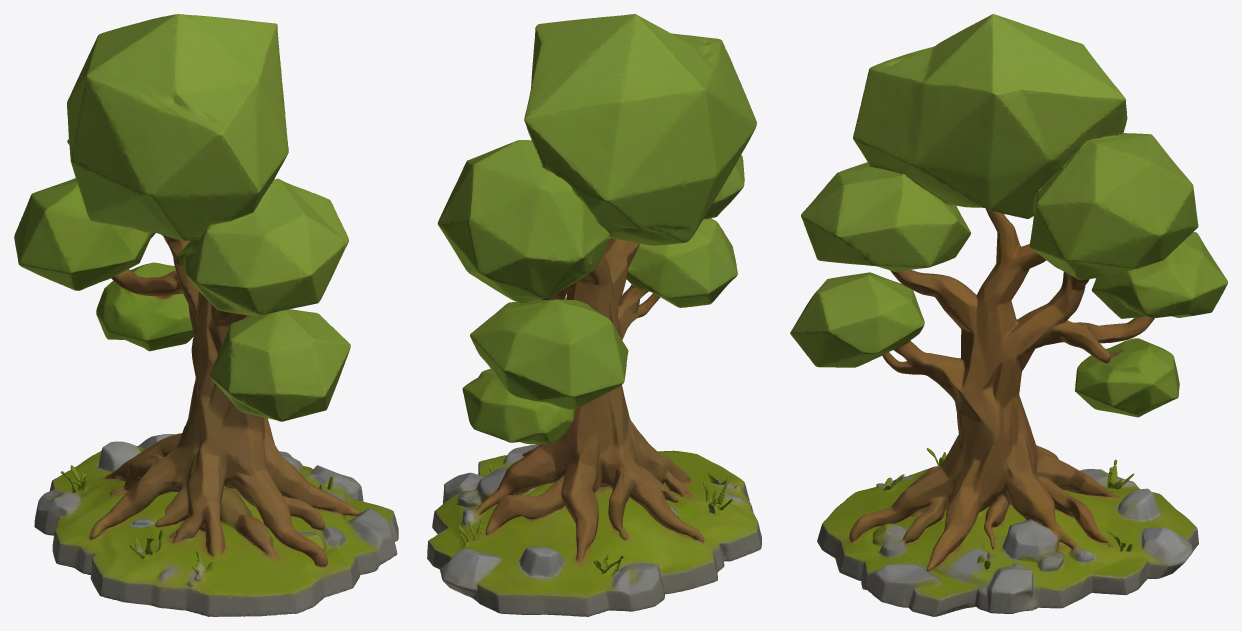
Rendered from tree.glb.
3 renders of one model, left to right at view 1: azimuth 30°, elevation 25°; view 2: azimuth 150°, elevation 25°; view 3: azimuth 270°, elevation 25°, orthographic. The views are drawn at different scales.
Parts seen in each view (by area): view 1: tripo_node_b20ef84e-00fa-4bff-b09a-db48e689902b; view 2: tripo_node_b20ef84e-00fa-4bff-b09a-db48e689902b; view 3: tripo_node_b20ef84e-00fa-4bff-b09a-db48e689902b.
Boxes of the visible parts, x1,y1,x2,y2 form: tripo_node_b20ef84e-00fa-4bff-b09a-db48e689902b: (14,14,398,616); tripo_node_b20ef84e-00fa-4bff-b09a-db48e689902b: (427,14,761,616); tripo_node_b20ef84e-00fa-4bff-b09a-db48e689902b: (790,14,1227,616).
Size of the model in its own units: 0.5643 by 1 by 0.7658.
1 material, 1 textured.
